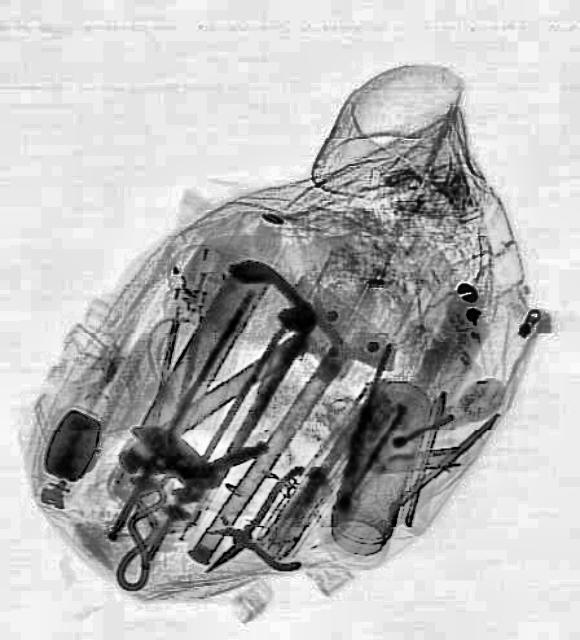Pliers: (182, 463, 334, 597)
